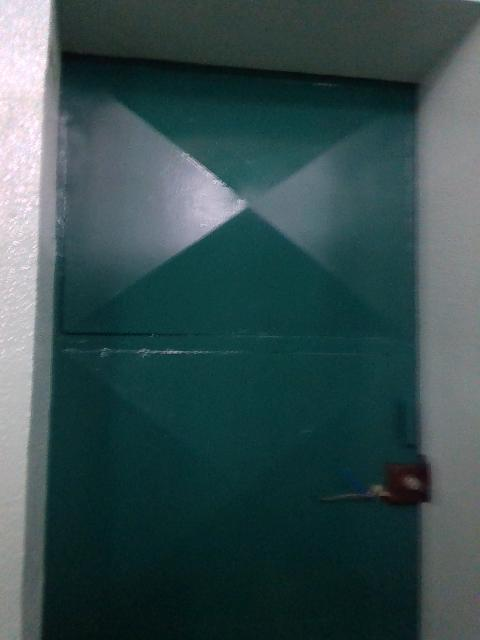door: (43, 60, 419, 636)
